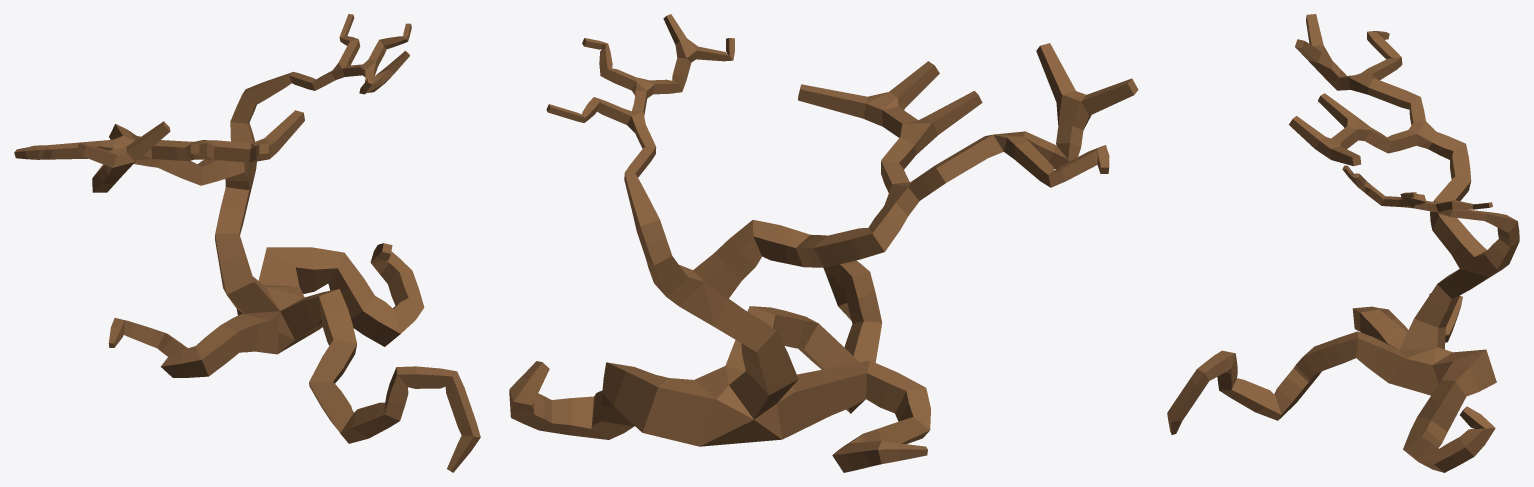
The model's file is small dead tree.fbx.
3 views of the same model, side by side, from view 1: azimuth 30°, elevation 25°; view 2: azimuth 150°, elevation 25°; view 3: azimuth 270°, elevation 25° (orthographic). The views are drawn at different scales.
Parts seen in each view (by area): view 1: Cube; view 2: Cube; view 3: Cube.
Boxes of the visible parts, x1,y1,x2,y2 form: Cube: (14,14,480,472); Cube: (509,14,1138,472); Cube: (1167,14,1519,472).
Bounding box in the file's own units: 4832 × 3674 × 3814.
